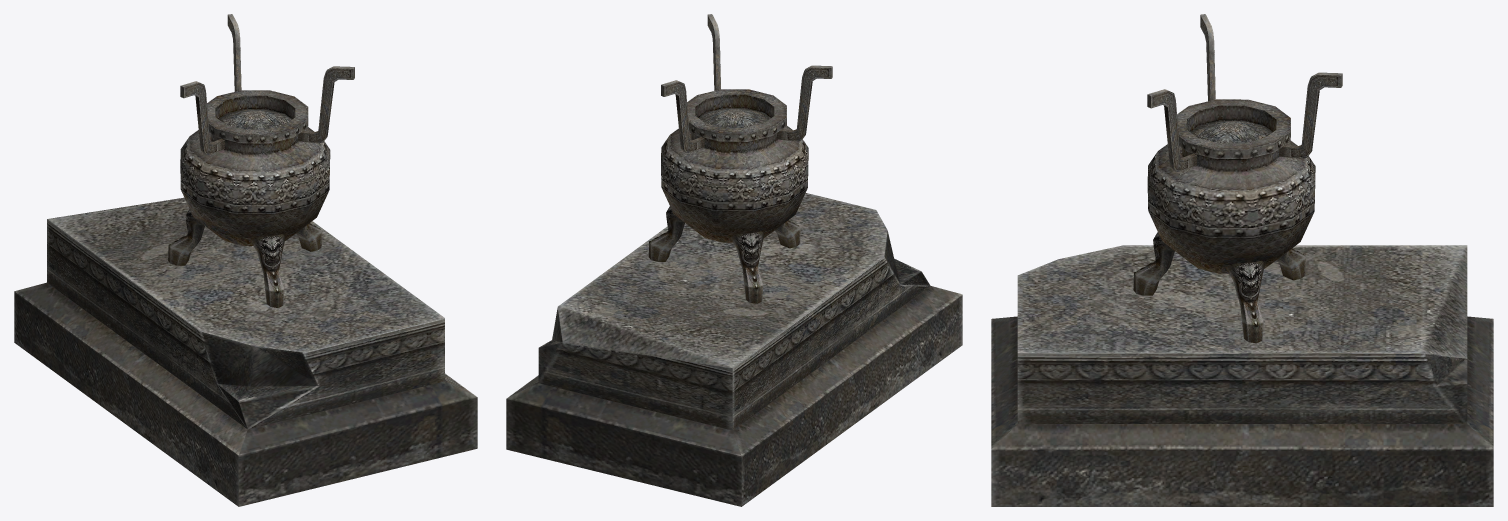
File: obj_braziar_00.fbx
The picture shows the model from 3 angles, left to right: view 1: azimuth 30°, elevation 25°; view 2: azimuth 150°, elevation 25°; view 3: azimuth 270°, elevation 25°; orthographic projection. The views are drawn at different scales.
Visible parts, largest first — view 1: Object03, obj_braziar_00; view 2: Object03, obj_braziar_00; view 3: Object03, obj_braziar_00.
Boxes of the visible parts, x1,y1,x2,y2 form: Object03: [14, 197, 477, 506]; obj_braziar_00: [168, 14, 354, 307]; Object03: [506, 193, 962, 506]; obj_braziar_00: [648, 14, 832, 303]; Object03: [991, 245, 1493, 506]; obj_braziar_00: [1133, 14, 1342, 343].
Size of the model in its own units: 5.99 by 8.19 by 9.74.
